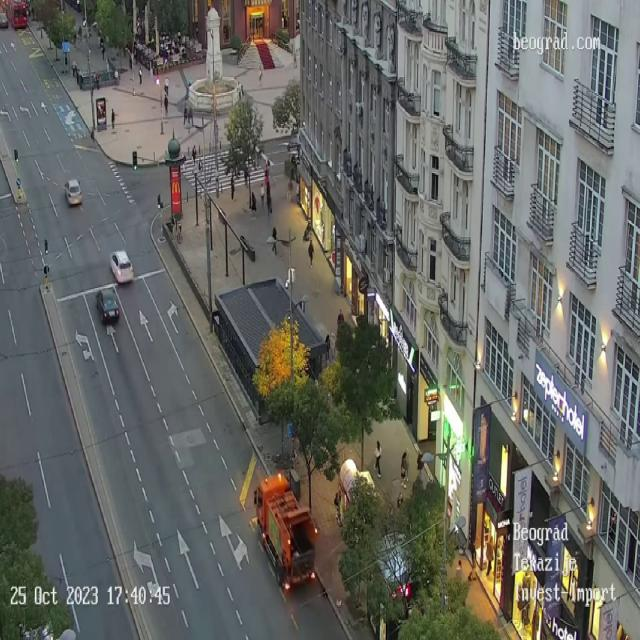bus: (5, 0, 27, 27)
car: (95, 288, 120, 324), (110, 250, 134, 284), (64, 179, 83, 206)
truck: (255, 478, 317, 590)
